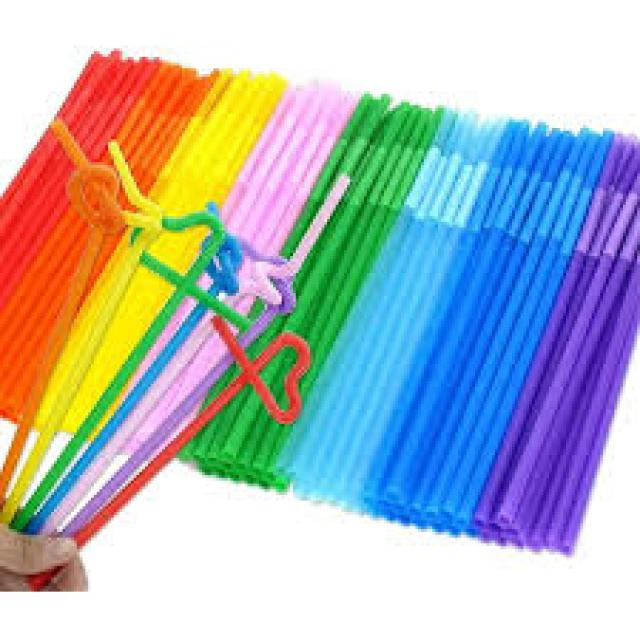plastic: (90, 300, 321, 596)
